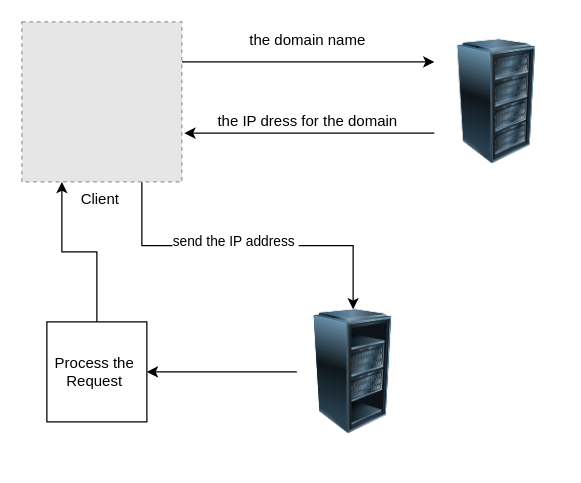
This 581x483 diagram has some shape labels left out. Grey dashed boxes stand in for pictures. Here are the shapes that lost their labels. From the top down, the centre of each, then its label:
At (496,101): "DNS name server".
At (352,371): "root srever".
